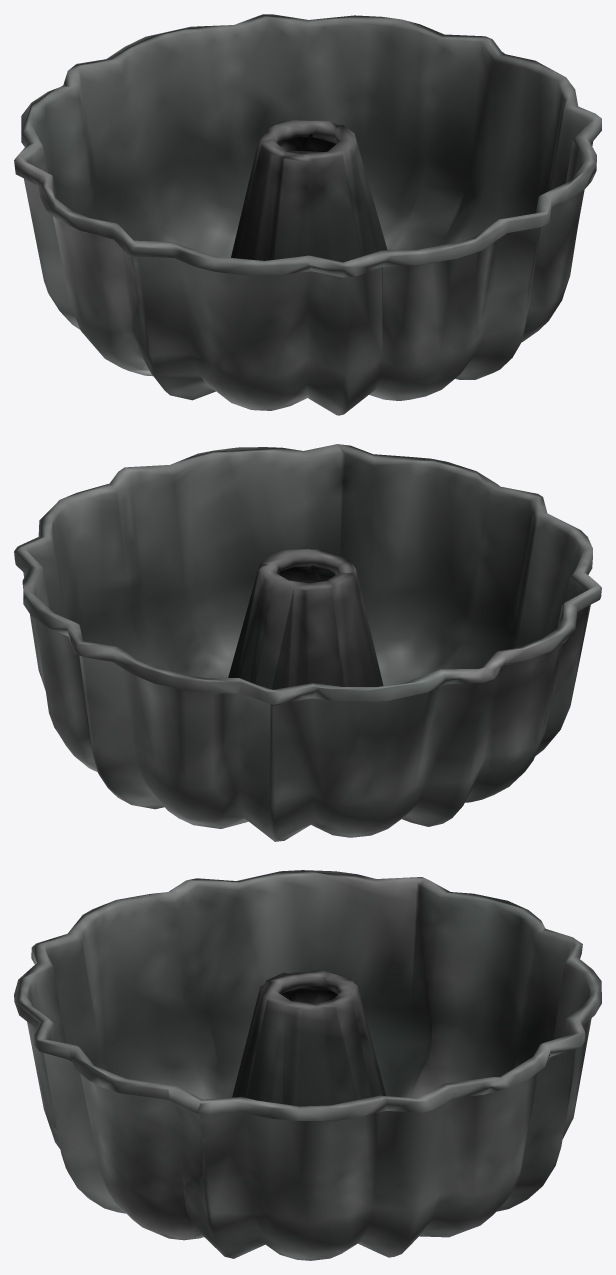
Rendered from Nordic_Ware_Original_Bundt_Pan-medium.glb.
The picture shows the model from 3 angles, top to bottom: view 1: azimuth 30°, elevation 25°; view 2: azimuth 150°, elevation 25°; view 3: azimuth 270°, elevation 25°; orthographic projection.
Parts seen in each view (by area): view 1: Nordic_Ware_Original_Bundt_Pan; view 2: Nordic_Ware_Original_Bundt_Pan; view 3: Nordic_Ware_Original_Bundt_Pan.
Part boxes in pixels (<box>): Nordic_Ware_Original_Bundt_Pan: <box>14,14,601,415</box>; Nordic_Ware_Original_Bundt_Pan: <box>14,444,601,841</box>; Nordic_Ware_Original_Bundt_Pan: <box>14,870,601,1260</box>.
Bounding box in the file's own units: 0.2635 × 0.0998 × 0.2631.
Materials: 1 (1 with a texture image).
